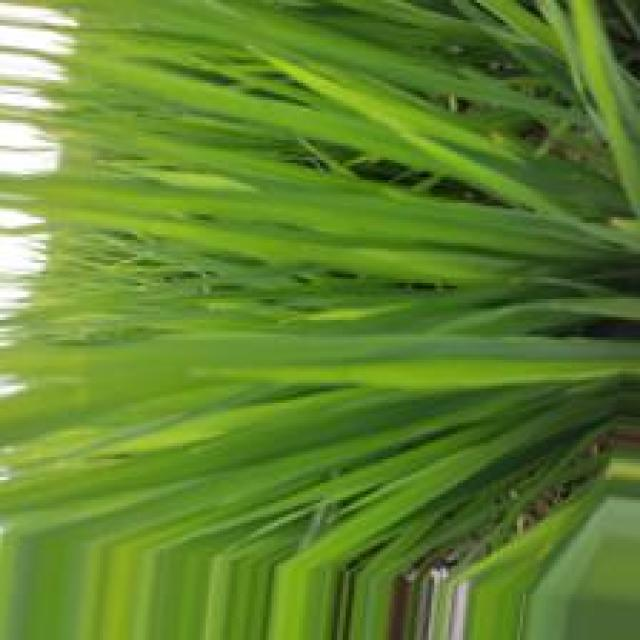HealthyLeaf: (0, 176, 630, 323), (51, 396, 373, 556), (3, 328, 639, 388)
